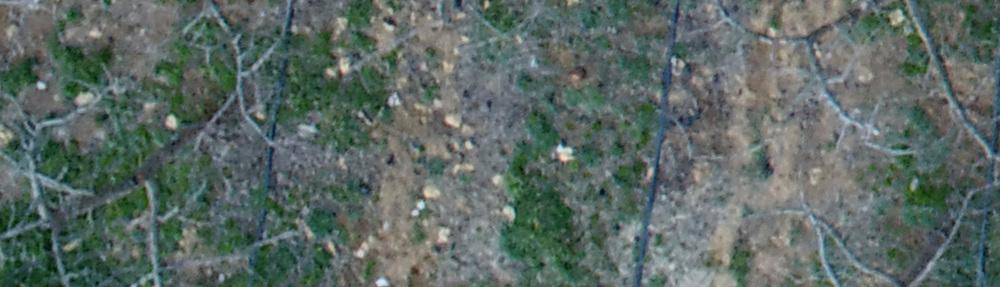apple: (10, 97, 266, 277)
